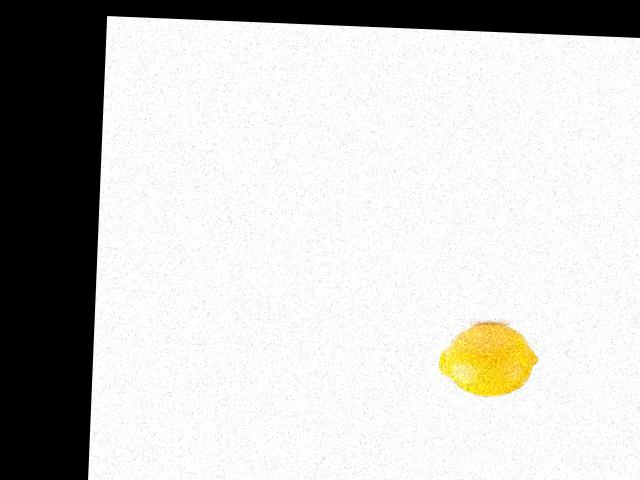lemon: (429, 324, 544, 402)
